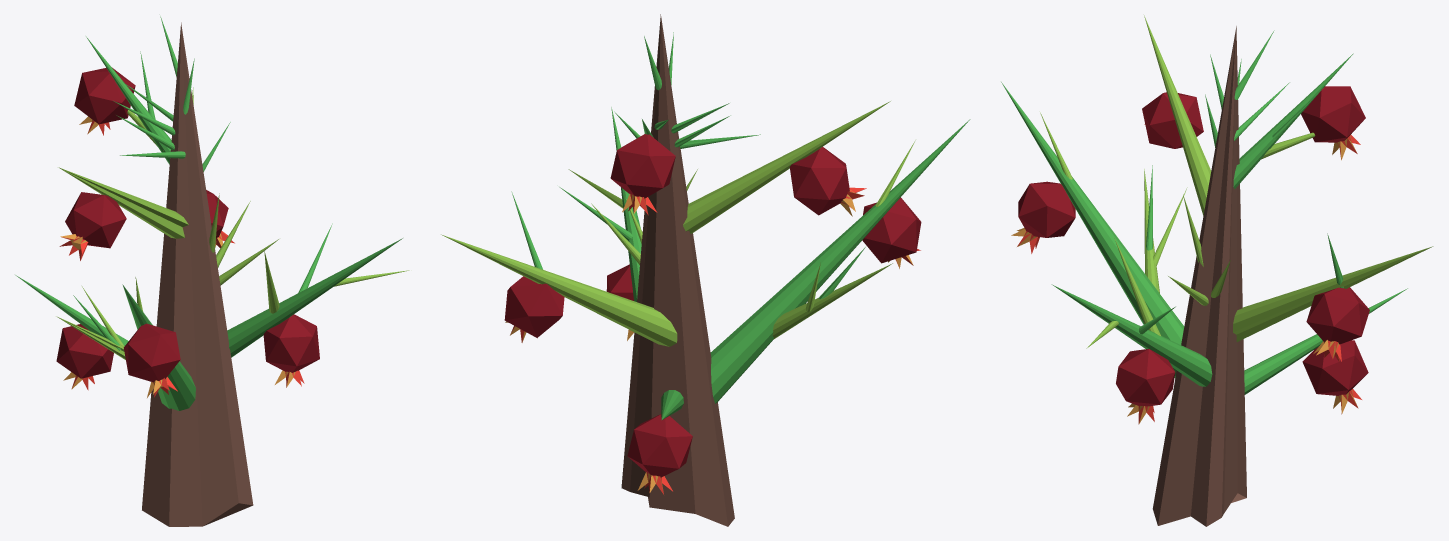
Rendered from anartree.obj.
3 renders of one model, left to right at view 1: azimuth 30°, elevation 25°; view 2: azimuth 150°, elevation 25°; view 3: azimuth 270°, elevation 25°, orthographic. The views are drawn at different scales.
Visible parts, largest first — view 1: polySurface1; view 2: polySurface1; view 3: polySurface1.
Boxes of the visible parts, x1=… form: polySurface1: x1=15, y1=16, x2=409, y2=526; polySurface1: x1=441, y1=14, x2=970, y2=526; polySurface1: x1=1001, y1=15, x2=1433, y2=526.
Size of the model in its own units: 2.59 by 3.56 by 2.83.
